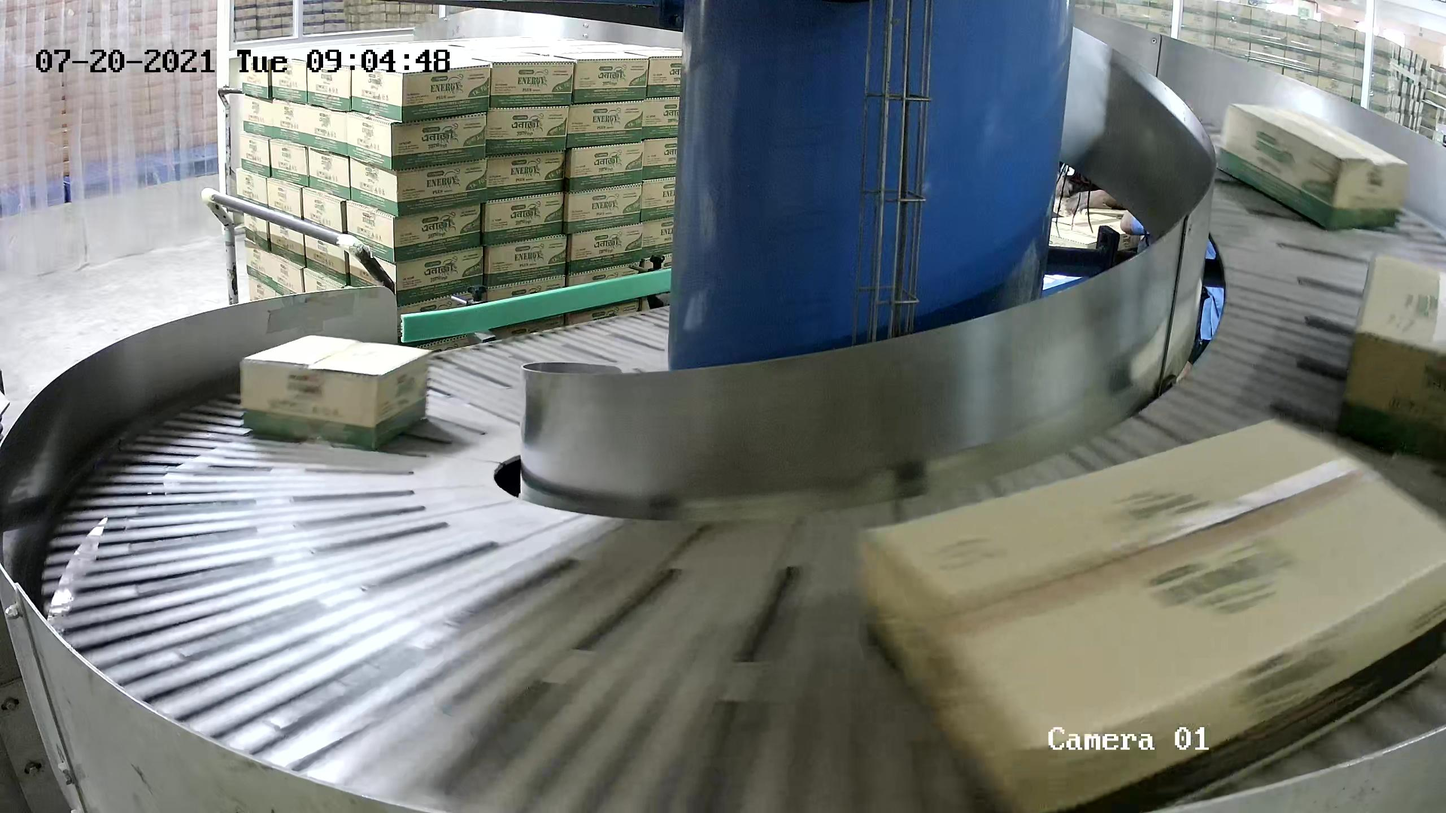Box: (854, 412, 1446, 813), (1214, 103, 1410, 234), (1334, 250, 1446, 462), (239, 333, 433, 452)
